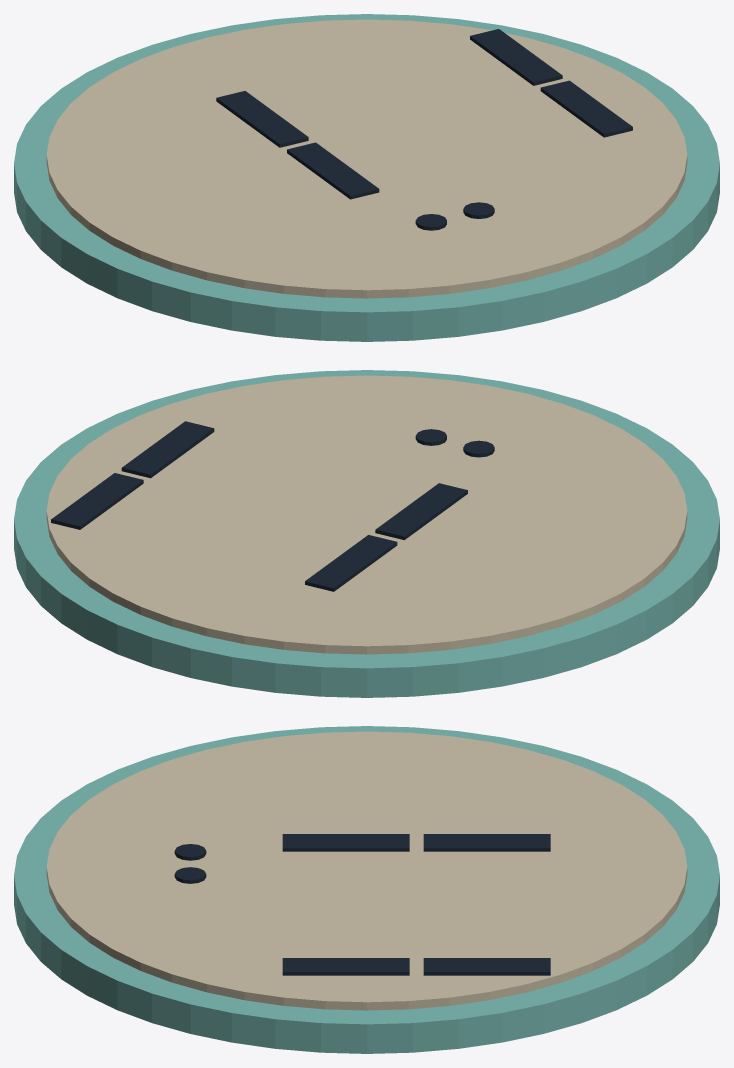
Rendered from space_number_11.glb.
3 renders of one model, top to bottom at view 1: azimuth 30°, elevation 25°; view 2: azimuth 150°, elevation 25°; view 3: azimuth 270°, elevation 25°, orthographic.
Parts seen in each view (by area): view 1: FixedDetails; view 2: FixedDetails; view 3: FixedDetails.
Boxes of the visible parts, x1=… form: FixedDetails: x1=14, y1=14, x2=719, y2=341; FixedDetails: x1=14, y1=370, x2=719, y2=697; FixedDetails: x1=14, y1=726, x2=719, y2=1053.
Bounding box in the file's own units: 0.54 × 0.036 × 0.54.
